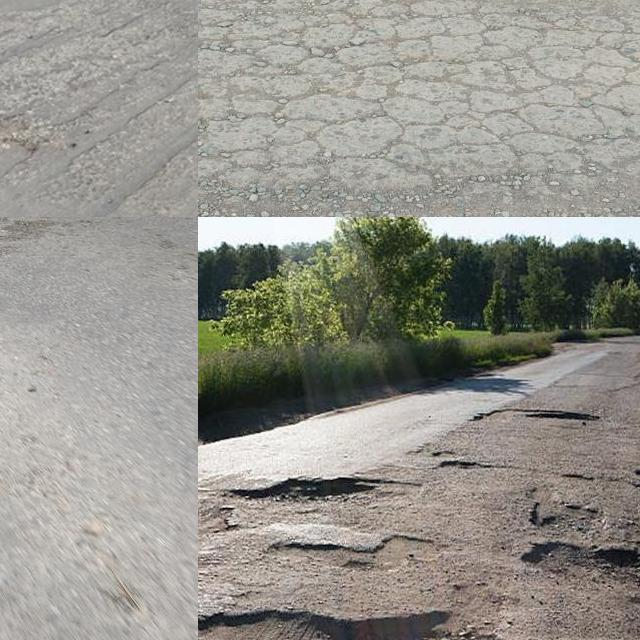Lubang: (198, 610, 501, 640), (244, 470, 386, 513), (531, 542, 640, 593), (198, 507, 234, 550)
Retak Buaya: (198, 0, 640, 210)
